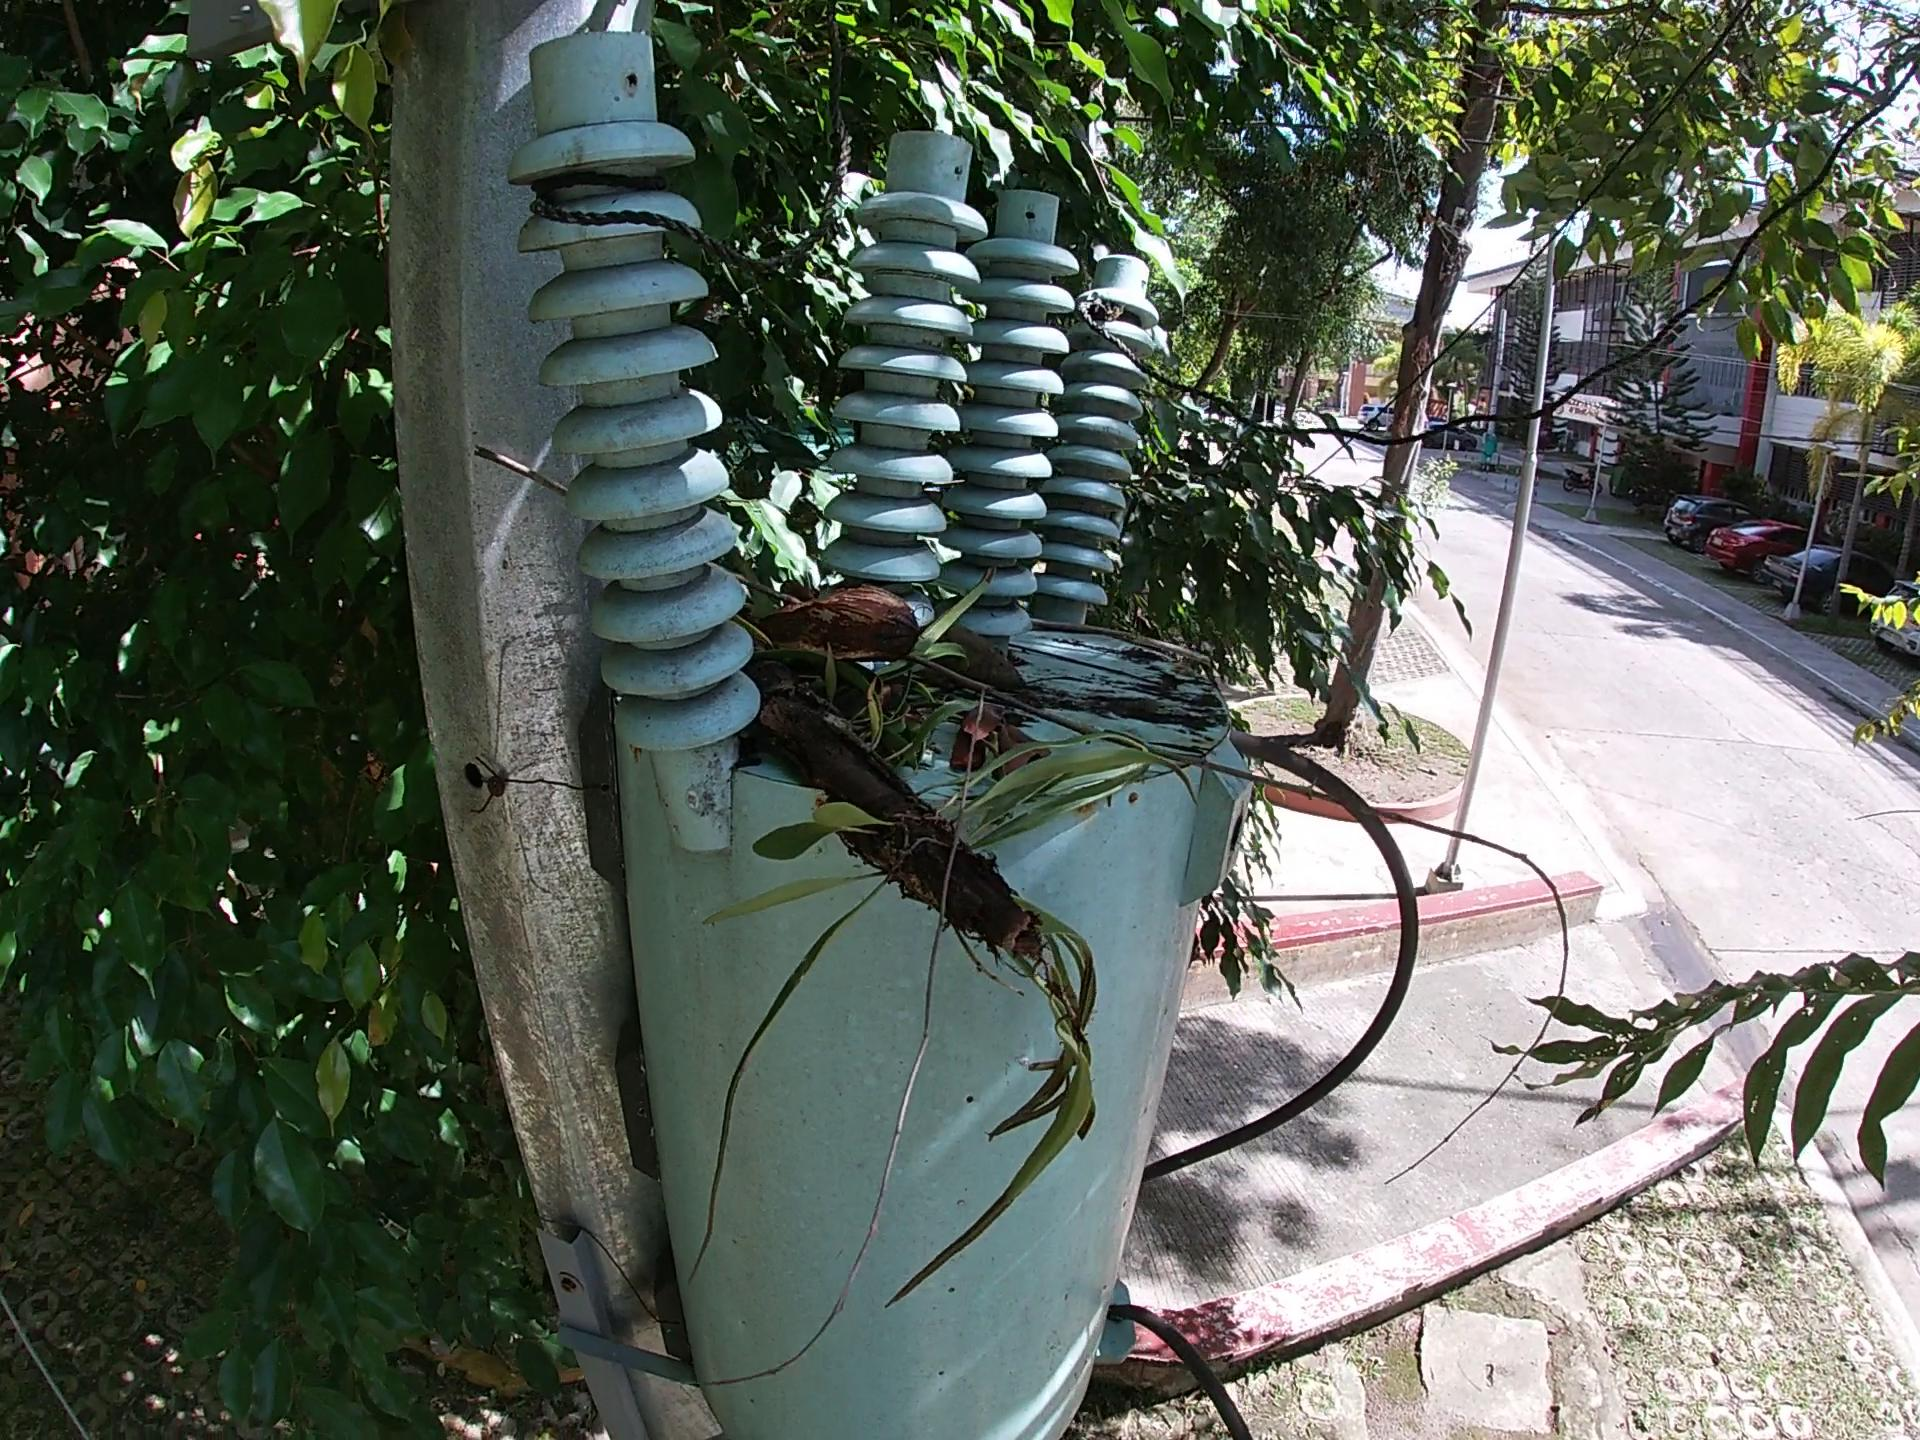branch with leaves: (714, 664, 1011, 1110)
leaf: (940, 720, 1114, 833)
mahogany fruit: (723, 666, 934, 843)
tree branch: (579, 451, 1719, 935), (1045, 610, 1339, 672), (901, 637, 1076, 740)
